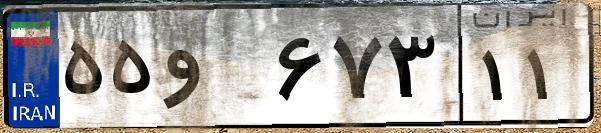1: (475, 38, 525, 113), (525, 38, 570, 115)
3: (385, 28, 445, 110)
5: (57, 26, 110, 100), (110, 28, 158, 98)
6: (270, 28, 330, 110)
7: (330, 28, 385, 110)
و: (158, 20, 270, 120)
